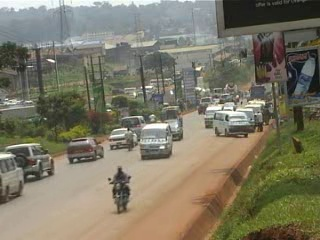Car: (3, 140, 57, 180), (65, 135, 107, 164), (107, 126, 138, 153), (160, 118, 185, 143), (195, 99, 213, 114)
Motorcycle: (107, 165, 133, 215), (123, 127, 136, 152), (147, 112, 159, 125)
